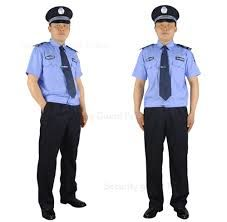uniform: (137, 42, 192, 193), (34, 43, 81, 204)
